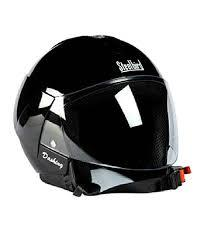helmet: (15, 36, 190, 196)
